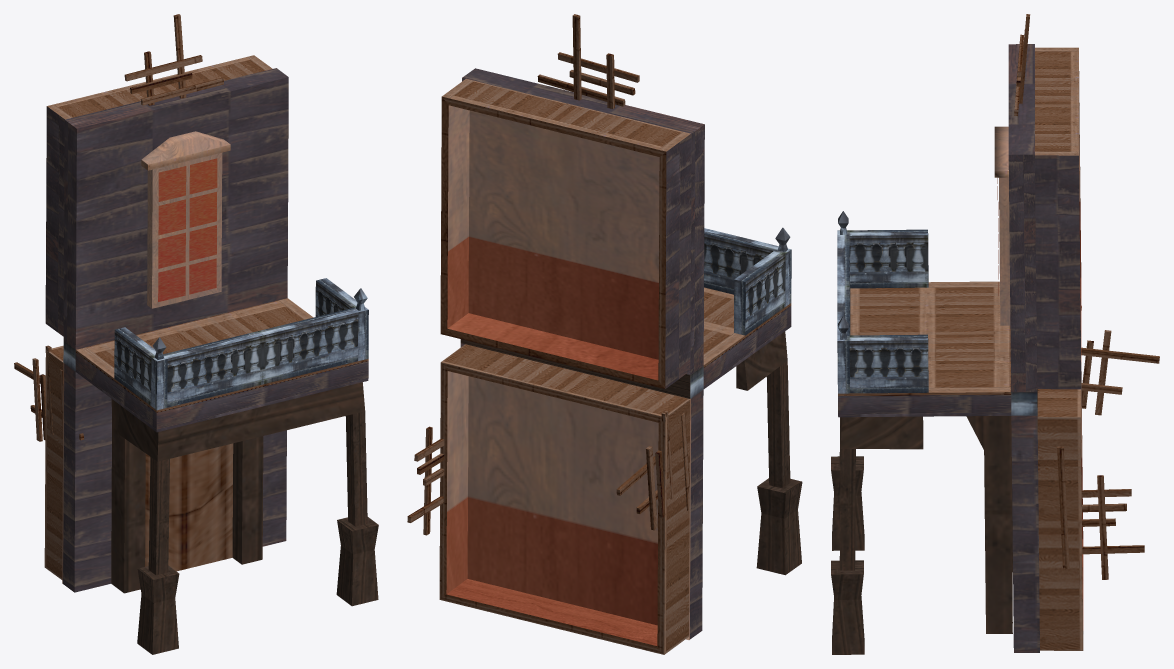
The model's file is Spooky_Tower_Floating_Cabin_03_Art.glb.
The picture shows the model from 3 angles, left to right: view 1: azimuth 30°, elevation 25°; view 2: azimuth 150°, elevation 25°; view 3: azimuth 270°, elevation 25°; orthographic projection. The views are drawn at different scales.
Visible parts, largest first — view 1: Spooky_Tower_Floating_Cabin_03_Art; view 2: Spooky_Tower_Floating_Cabin_03_Art; view 3: Spooky_Tower_Floating_Cabin_03_Art.
Part boxes in pixels (x1,y1,x2,y2): Spooky_Tower_Floating_Cabin_03_Art: [14, 14, 378, 654]; Spooky_Tower_Floating_Cabin_03_Art: [407, 14, 802, 654]; Spooky_Tower_Floating_Cabin_03_Art: [831, 14, 1159, 654].
Bounding box in the file's own units: 2.93 × 6.78 × 3.46.
2 materials, 2 textured.
